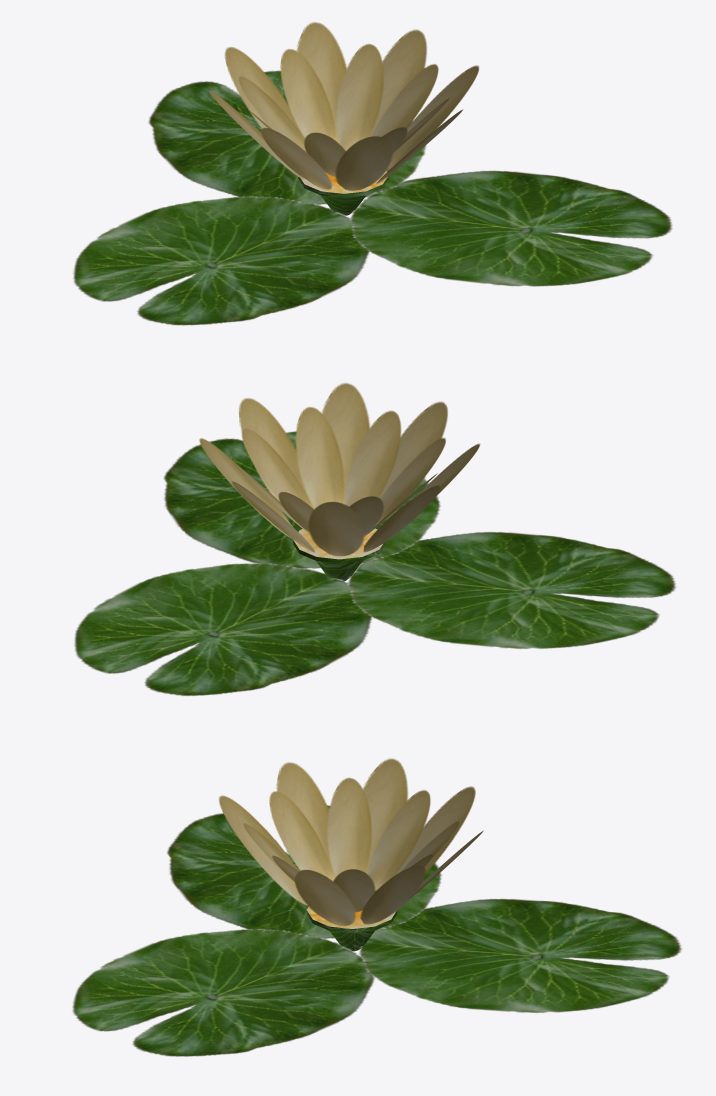
3 views of the same model, one above another, from view 1: azimuth 30°, elevation 25°; view 2: azimuth 150°, elevation 25°; view 3: azimuth 270°, elevation 25° (orthographic).
Visible parts, largest first — view 1: green_leaf.001, green_leaf, water_lily, green_leaf.002; view 2: green_leaf, green_leaf.002, water_lily, green_leaf.001; view 3: green_leaf.001, green_leaf.002, water_lily, green_leaf.
Boxes of the visible parts, x1,y1,x2,y2 form: green_leaf.001: (349, 170, 672, 286); green_leaf: (73, 196, 369, 325); water_lily: (209, 22, 479, 215); green_leaf.002: (148, 70, 426, 204); green_leaf: (347, 531, 676, 648); green_leaf.002: (74, 563, 372, 696); water_lily: (199, 383, 480, 581); green_leaf.001: (163, 431, 440, 568); green_leaf.001: (72, 929, 375, 1056); green_leaf.002: (358, 898, 682, 1012); water_lily: (219, 758, 483, 951); green_leaf: (167, 805, 442, 938).
Bounding box in the file's own units: 60.61 × 13.08 × 60.25.
2 materials, 2 textured.
